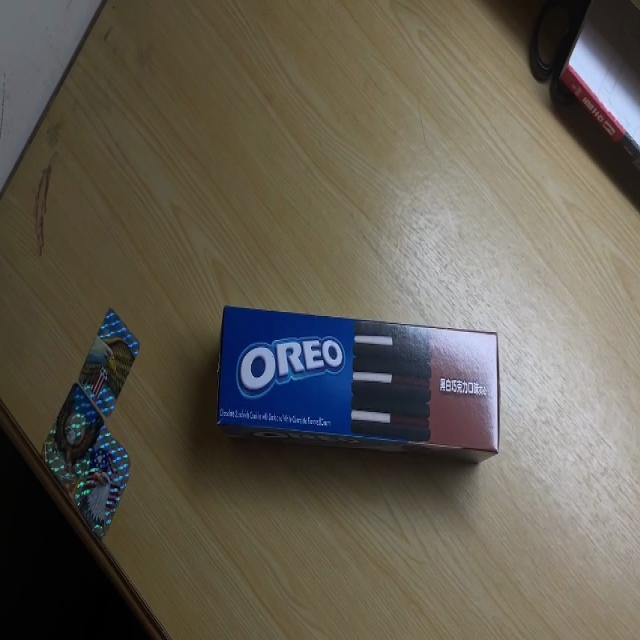Oreo: (215, 301, 502, 464)
